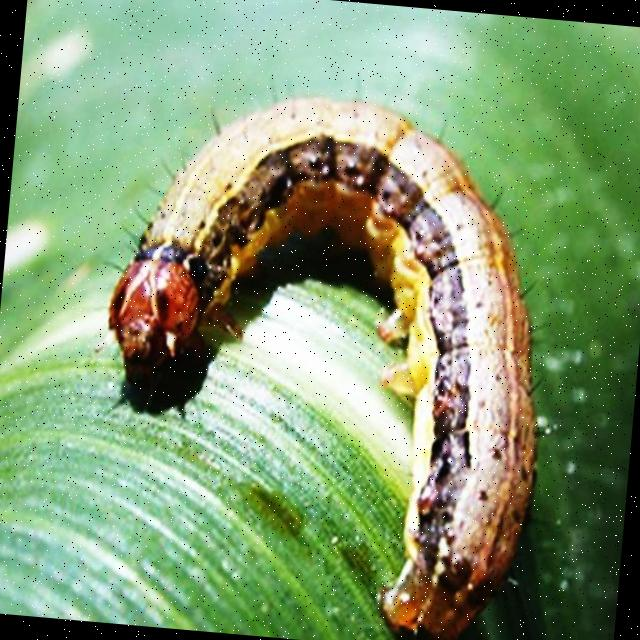worm: (75, 74, 571, 640)
